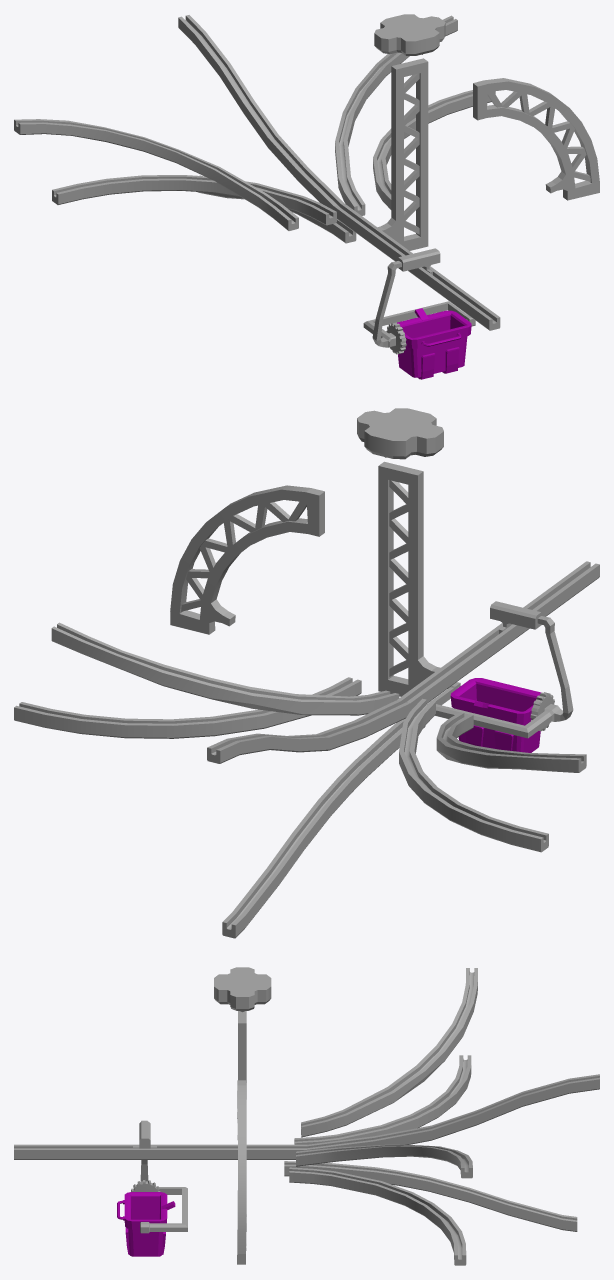
File: minecart (2).fbx
3 renders of one model, top to bottom at view 1: azimuth 30°, elevation 25°; view 2: azimuth 150°, elevation 25°; view 3: azimuth 270°, elevation 25°, orthographic. The views are drawn at different scales.
Visible parts, largest first — view 1: pCube208, pCube209, pCube212, pCylinder34, pCube193, pCube211, pCube188, pCube191, pCube219, pCube217, pCube189, pCube194; view 2: pCube208, pCube209, pCube191, pCube189, pCube194, pCube211, pCylinder34, pCube188, pCube193, pCube219, pCube217, pCube212; view 3: pCube188, pCube212, pCube193, pCube194, pCube189, pCylinder34, pCube191, pCube211, pCube217, pCube209, pCube219, pCube208.
Boxes of the visible parts, <box> form: pCube208: <box>377,58,428,250</box>; pCube209: <box>473,78,599,200</box>; pCube212: <box>14,119,298,230</box>; pCylinder34: <box>386,308,471,379</box>; pCube193: <box>178,15,344,209</box>; pCube211: <box>52,175,336,225</box>; pCube188: <box>333,203,500,330</box>; pCube191: <box>335,15,457,215</box>; pCube219: <box>363,248,475,347</box>; pCube217: <box>374,14,445,55</box>; pCube189: <box>373,90,495,209</box>; pCube194: <box>197,175,356,243</box>; pCube208: <box>378,461,440,696</box>; pCube209: <box>170,485,324,634</box>; pCube191: <box>51,622,399,715</box>; pCube189: <box>14,677,361,738</box>; pCube194: <box>222,718,425,938</box>; pCube211: <box>399,698,548,852</box>; pCylinder34: <box>450,678,554,752</box>; pCube188: <box>397,561,599,710</box>; pCube193: <box>207,700,410,763</box>; pCube219: <box>426,601,573,738</box>; pCube217: <box>357,408,443,459</box>; pCube212: <box>436,712,586,772</box>; pCube188: <box>14,1144,306,1159</box>; pCube212: <box>301,968,477,1137</box>; pCube193: <box>307,1074,599,1150</box>; pCube194: <box>284,1161,577,1231</box>; pCube189: <box>289,1167,466,1265</box>; pCylinder34: <box>117,1180,175,1256</box>; pCube191: <box>296,1144,472,1178</box>; pCube211: <box>294,1055,471,1144</box>; pCube217: <box>214,967,271,1012</box>; pCube209: <box>237,1080,246,1264</box>; pCube219: <box>133,1120,187,1233</box>; pCube208: <box>238,1011,246,1099</box>.
Size of the model in its own units: 16.82 by 10.18 by 19.32.
